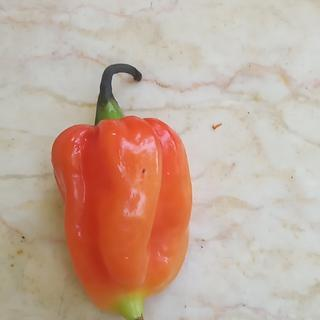Grade-A: (44, 116, 194, 309)
